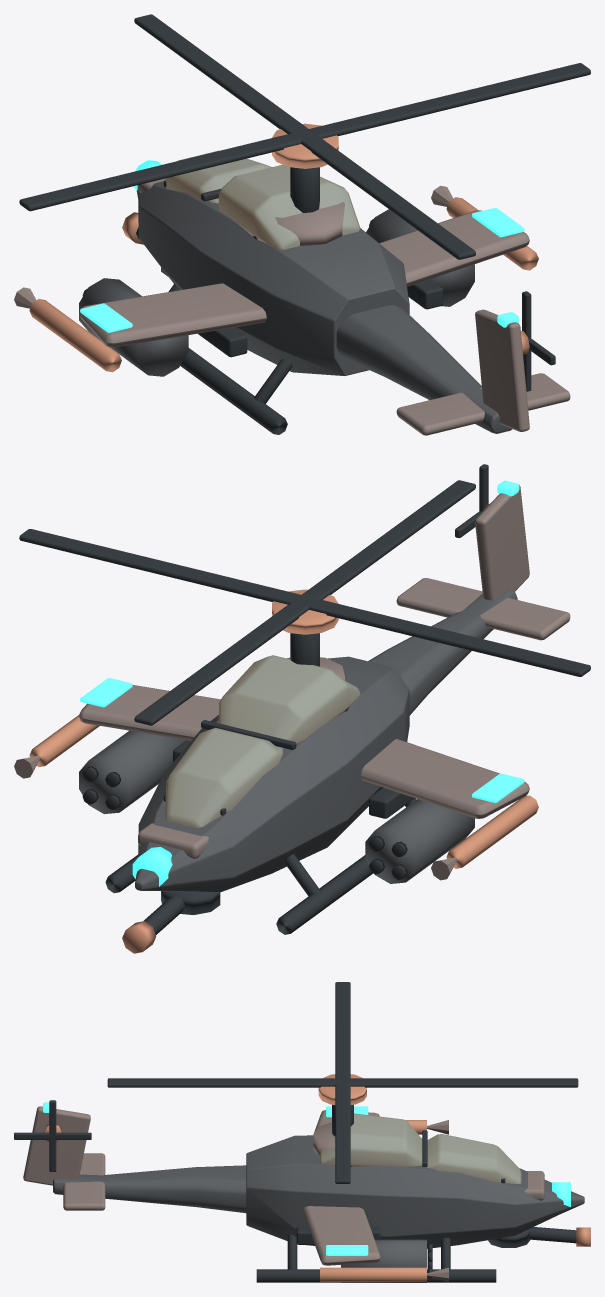
Rendered from apache.glb.
3 renders of one model, top to bottom at view 1: azimuth 30°, elevation 25°; view 2: azimuth 150°, elevation 25°; view 3: azimuth 270°, elevation 25°, orthographic. The views are drawn at different scales.
Visible parts, largest first — view 1: Apache tapered fuselage, Nose sensor brow, Rear cockpit glazing, Canopy frame, Chain gun muzzle, Apache main rotor blade.002, Apache main rotor blade, Apache main rotor blade.003, Apache main rotor blade.001, Wingtip Vesper stripe, Wingtip Vesper stripe.001; view 2: Apache tapered fuselage, Nose sensor brow, Rear cockpit glazing, Canopy frame, Chain gun muzzle, Apache main rotor blade.002, Apache main rotor blade, Apache main rotor blade.001, Apache main rotor blade.003, Nose target optic, Wingtip Vesper stripe, Wingtip Vesper stripe.001; view 3: Apache tapered fuselage, Nose sensor brow, Rear cockpit glazing, Canopy frame, Chain gun muzzle, Apache main rotor blade.001, Apache main rotor blade.003, Apache main rotor blade, Apache main rotor blade.002, Wingtip Vesper stripe.001.
Boxes of the visible parts, x1,y1,x2,y2 form: Apache tapered fuselage: [79, 181, 512, 433]; Nose sensor brow: [14, 178, 570, 435]; Rear cockpit glazing: [165, 150, 360, 249]; Canopy frame: [82, 167, 555, 434]; Chain gun muzzle: [29, 123, 538, 372]; Apache main rotor blade.002: [19, 131, 304, 211]; Apache main rotor blade: [303, 63, 590, 138]; Apache main rotor blade.003: [299, 133, 475, 259]; Apache main rotor blade.001: [134, 14, 308, 134]; Wingtip Vesper stripe: [80, 303, 132, 332]; Wingtip Vesper stripe.001: [472, 207, 524, 237]; Apache tapered fuselage: [79, 588, 517, 892]; Nose sensor brow: [14, 485, 570, 880]; Rear cockpit glazing: [164, 655, 360, 827]; Canopy frame: [82, 464, 490, 934]; Chain gun muzzle: [29, 504, 538, 953]; Apache main rotor blade.002: [303, 597, 590, 676]; Apache main rotor blade: [19, 529, 306, 604]; Apache main rotor blade.001: [134, 599, 309, 725]; Apache main rotor blade.003: [302, 480, 475, 600]; Nose target optic: [132, 847, 172, 886]; Wingtip Vesper stripe: [472, 773, 524, 802]; Wingtip Vesper stripe.001: [80, 678, 132, 707]; Apache tapered fuselage: [53, 1135, 584, 1282]; Nose sensor brow: [23, 1106, 544, 1282]; Rear cockpit glazing: [320, 1113, 521, 1183]; Canopy frame: [14, 1100, 576, 1282]; Chain gun muzzle: [44, 1074, 590, 1281]; Apache main rotor blade.001: [343, 1078, 578, 1087]; Apache main rotor blade.003: [107, 1078, 342, 1087]; Apache main rotor blade: [335, 1081, 350, 1183]; Apache main rotor blade.002: [335, 982, 350, 1081]; Wingtip Vesper stripe.001: [326, 1245, 368, 1255].
Size of the model in its own units: 2.24 by 0.9 by 2.75.
